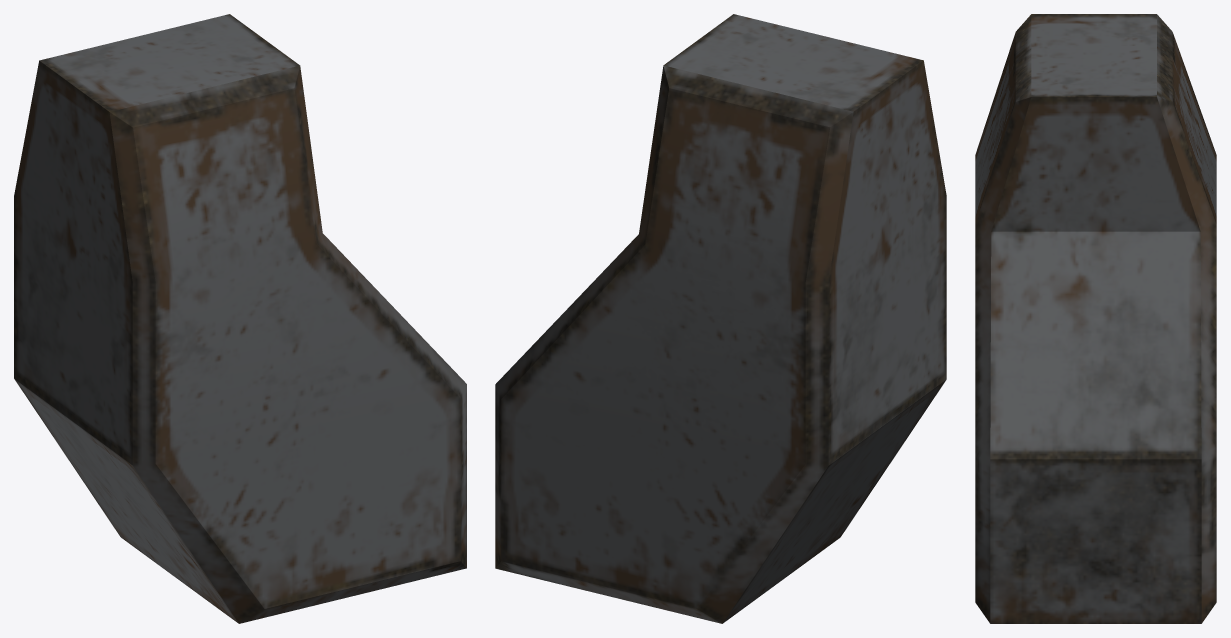
Rendered from mesh_BuildingA_TrimOffsetCap1_v2.3.fbx.
3 views of the same model, side by side, from view 1: azimuth 30°, elevation 25°; view 2: azimuth 150°, elevation 25°; view 3: azimuth 270°, elevation 25° (orthographic). The views are drawn at different scales.
Visible parts, largest first — view 1: mesh_BuildingA_TrimOffsetCap1; view 2: mesh_BuildingA_TrimOffsetCap1; view 3: mesh_BuildingA_TrimOffsetCap1.
Boxes of the visible parts, <box> form: mesh_BuildingA_TrimOffsetCap1: <box>14,14,466,623</box>; mesh_BuildingA_TrimOffsetCap1: <box>495,14,946,623</box>; mesh_BuildingA_TrimOffsetCap1: <box>975,14,1216,623</box>.
Bounding box in the file's own units: 71.6 × 107 × 50.22.
